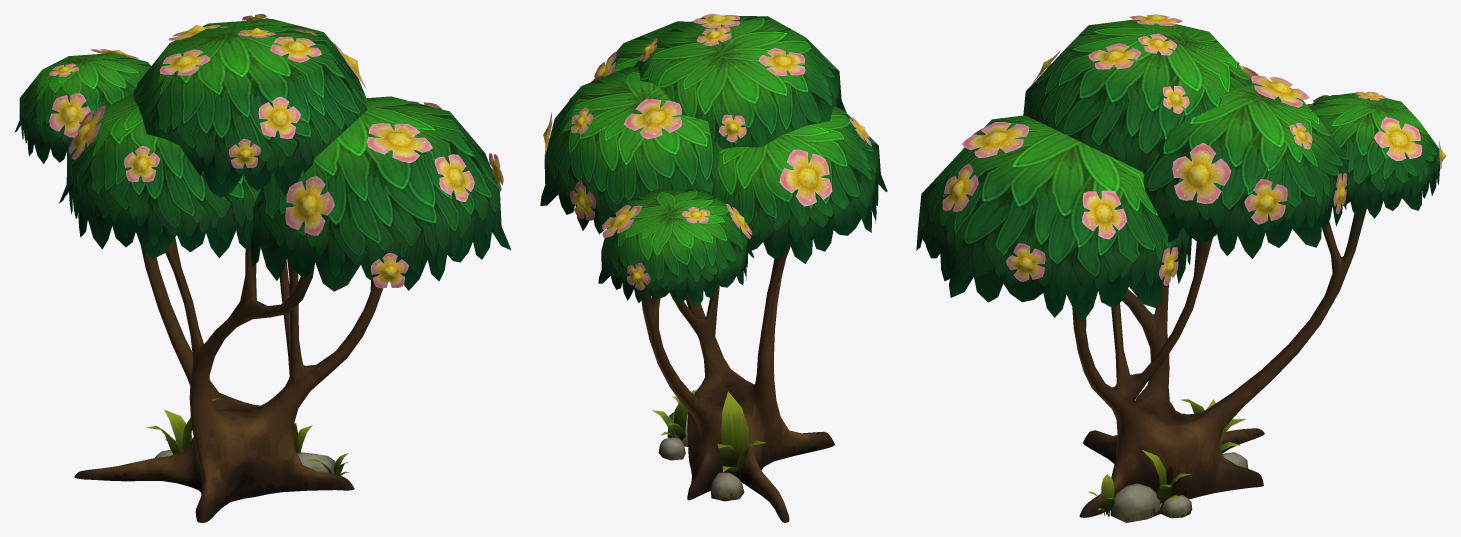
Rendered from tree-cluster_rescaledobj.obj.
3 views of the same model, side by side, from view 1: azimuth 30°, elevation 25°; view 2: azimuth 150°, elevation 25°; view 3: azimuth 270°, elevation 25° (orthographic). The views are drawn at different scales.
Parts seen in each view (by area): view 1: tree_cluster; view 2: tree_cluster; view 3: tree_cluster.
Boxes of the visible parts, x1=… form: tree_cluster: x1=14, y1=14, x2=511, y2=522; tree_cluster: x1=540, y1=14, x2=887, y2=522; tree_cluster: x1=916, y1=14, x2=1446, y2=522.
Bounding box in the file's own units: 30.09 × 37.33 × 39.14.
1 material, 1 textured.
